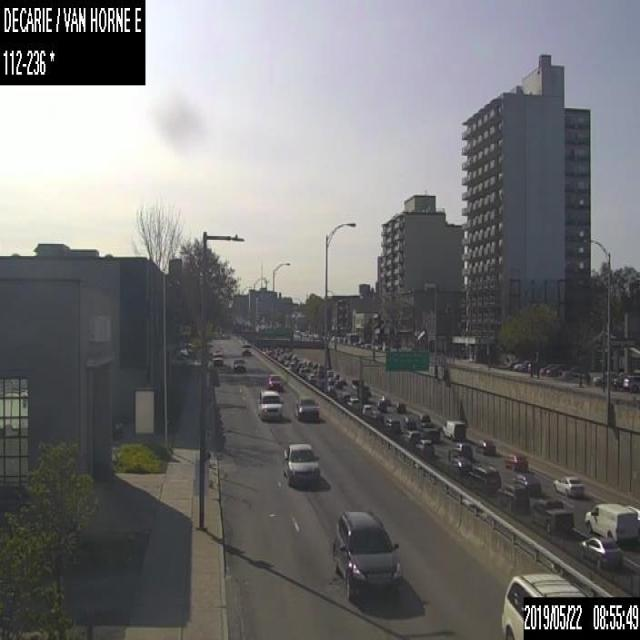vehicle: (332, 509, 403, 600), (499, 570, 586, 638), (584, 503, 636, 543), (529, 496, 574, 534), (282, 441, 320, 484), (580, 536, 620, 567), (496, 481, 528, 512), (466, 464, 500, 492), (256, 389, 283, 421), (552, 473, 584, 498), (292, 396, 321, 421), (512, 472, 541, 496), (442, 418, 466, 441), (418, 412, 438, 435), (504, 452, 528, 470), (450, 456, 470, 476), (414, 438, 434, 456), (450, 442, 472, 458), (268, 373, 286, 391), (622, 375, 639, 392), (476, 438, 494, 454), (111, 413, 122, 439), (544, 363, 567, 375), (401, 429, 419, 444), (625, 504, 639, 522), (384, 418, 400, 432), (402, 414, 416, 428), (538, 363, 554, 374), (346, 394, 358, 408), (392, 400, 405, 412), (233, 359, 245, 372), (344, 332, 356, 344), (212, 352, 224, 364), (241, 342, 251, 354), (361, 404, 371, 415), (376, 400, 386, 410), (379, 394, 389, 404), (305, 372, 315, 382), (362, 383, 370, 395), (298, 366, 307, 376), (326, 376, 334, 384), (327, 384, 334, 393), (334, 379, 341, 388), (364, 340, 371, 348), (276, 354, 283, 362), (339, 375, 345, 384), (326, 369, 333, 376), (290, 354, 297, 361), (316, 362, 322, 370), (305, 358, 311, 366), (334, 372, 340, 379), (312, 361, 317, 368)
